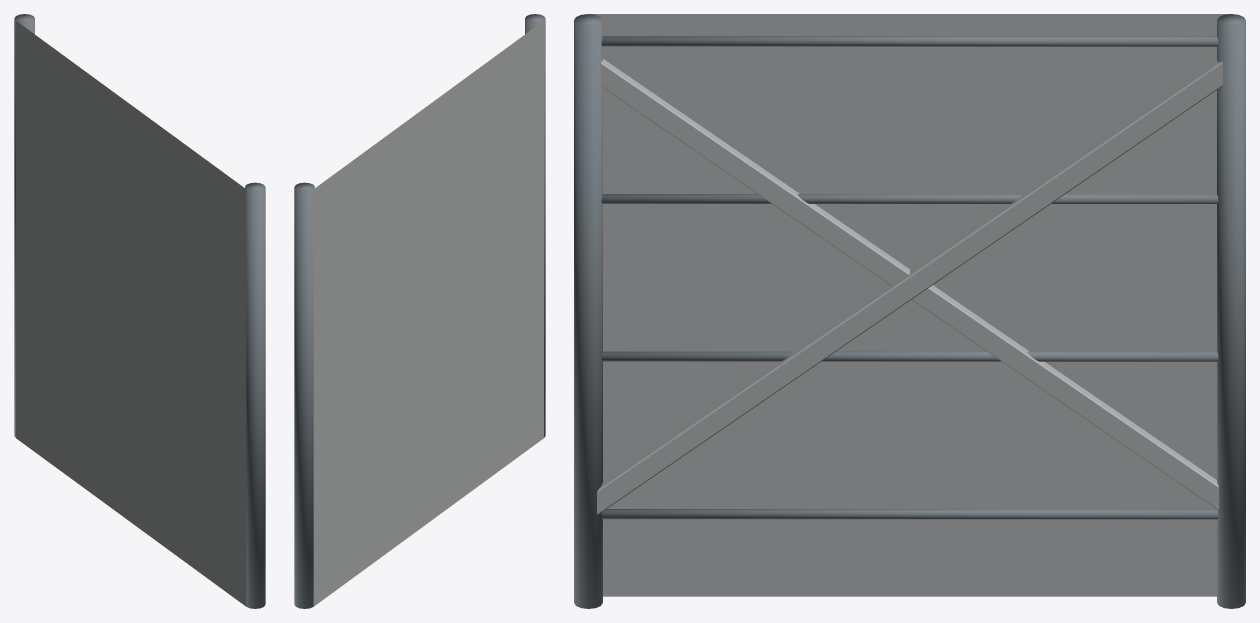
Rendered from Walls.fbx.
3 views of the same model, side by side, from view 1: azimuth 30°, elevation 25°; view 2: azimuth 150°, elevation 25°; view 3: azimuth 270°, elevation 25° (orthographic). The views are drawn at different scales.
Visible parts, largest first — view 1: WarehouseWallOpen, WarehouseWallCap; view 2: WarehouseWallOpen, WarehouseWallCap; view 3: WarehouseWallCap, WarehouseWallOpen.
Part boxes in pixels (x1,y1,x2,y2): WarehouseWallOpen: (14,14,246,606); WarehouseWallCap: (14,14,265,608); WarehouseWallOpen: (294,21,543,608); WarehouseWallCap: (294,14,545,530); WarehouseWallCap: (574,14,1245,608); WarehouseWallOpen: (597,14,1245,608).
Size of the model in its own units: 29.44 by 657 by 686.
Materials: 1 (1 with a texture image).
